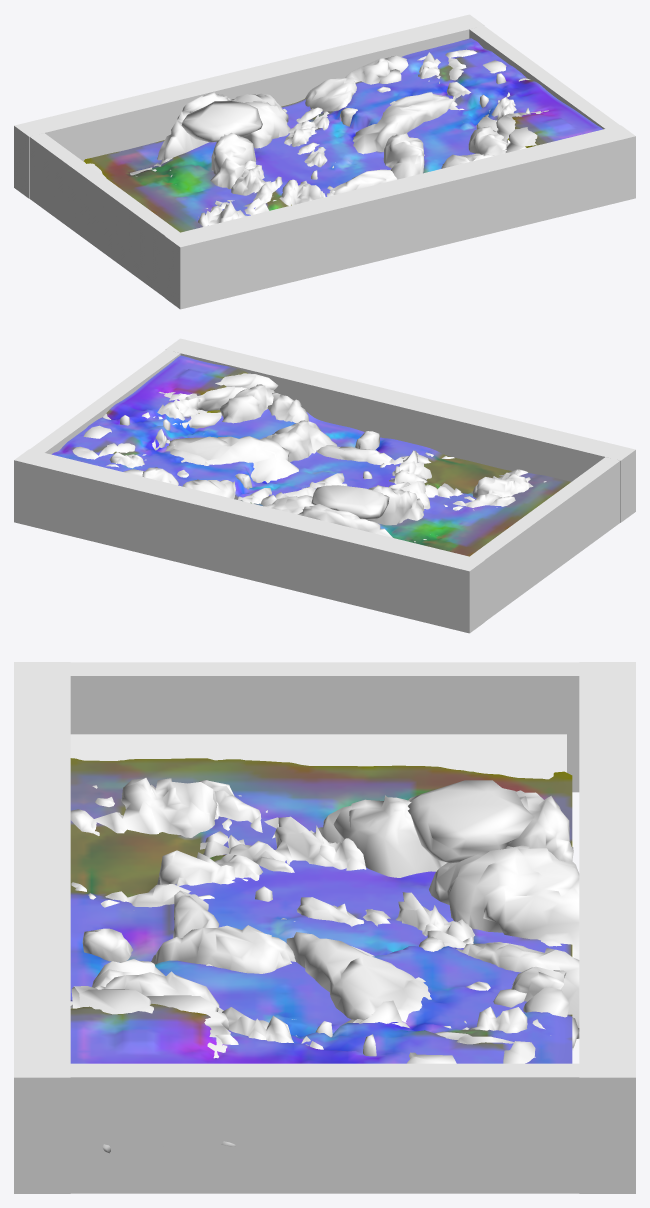
Rendered from 55Stone Variant.fbx.
The picture shows the model from 3 angles, top to bottom: view 1: azimuth 30°, elevation 25°; view 2: azimuth 150°, elevation 25°; view 3: azimuth 270°, elevation 25°; orthographic projection. The views are drawn at different scales.
Parts seen in each view (by area): view 1: Cube, UE4 River, 55Stone_LOD0; view 2: Cube, UE4 River, 55Stone_LOD0; view 3: Cube, 55Stone_LOD0, UE4 River, Plane (1), SM_River_Rock_01_LOD0 (3).
Boxes of the visible parts, x1=… form: Cube: x1=14, y1=14, x2=635, y2=309; UE4 River: x1=83, y1=38, x2=602, y2=232; 55Stone_LOD0: x1=130, y1=49, x2=548, y2=226; Cube: x1=14, y1=338, x2=635, y2=633; UE4 River: x1=52, y1=355, x2=570, y2=556; 55Stone_LOD0: x1=72, y1=373, x2=546, y2=541; Cube: x1=14, y1=662, x2=635, y2=1193; 55Stone_LOD0: x1=70, y1=778, x2=579, y2=1153; UE4 River: x1=70, y1=758, x2=572, y2=1063; Plane (1): x1=70, y1=734, x2=566, y2=779; SM_River_Rock_01_LOD0 (3): x1=82, y1=928, x2=132, y2=962.
Size of the model in its own units: 101 by 16.8 by 63.7.
